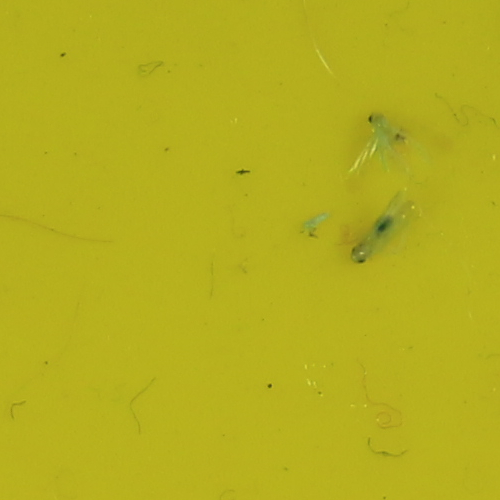cicada: (367, 107, 391, 131), (350, 240, 375, 263)
